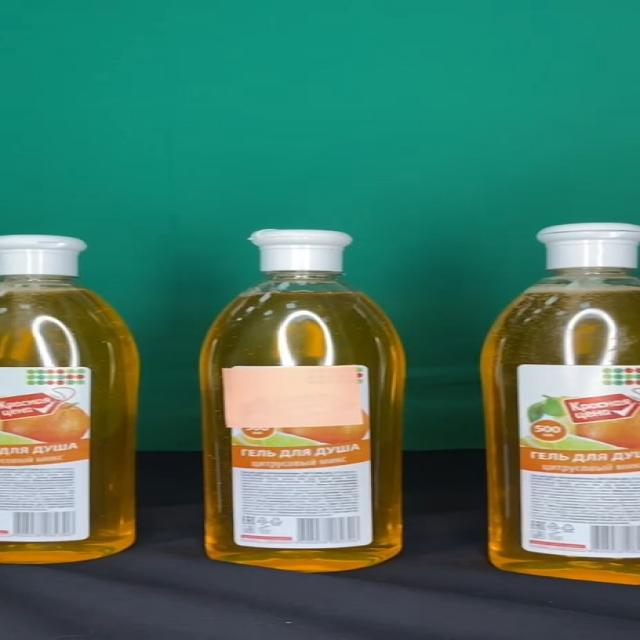Bottle: (198, 228, 407, 573), (483, 223, 640, 586)
Cap: (536, 223, 638, 268), (249, 228, 353, 270)
